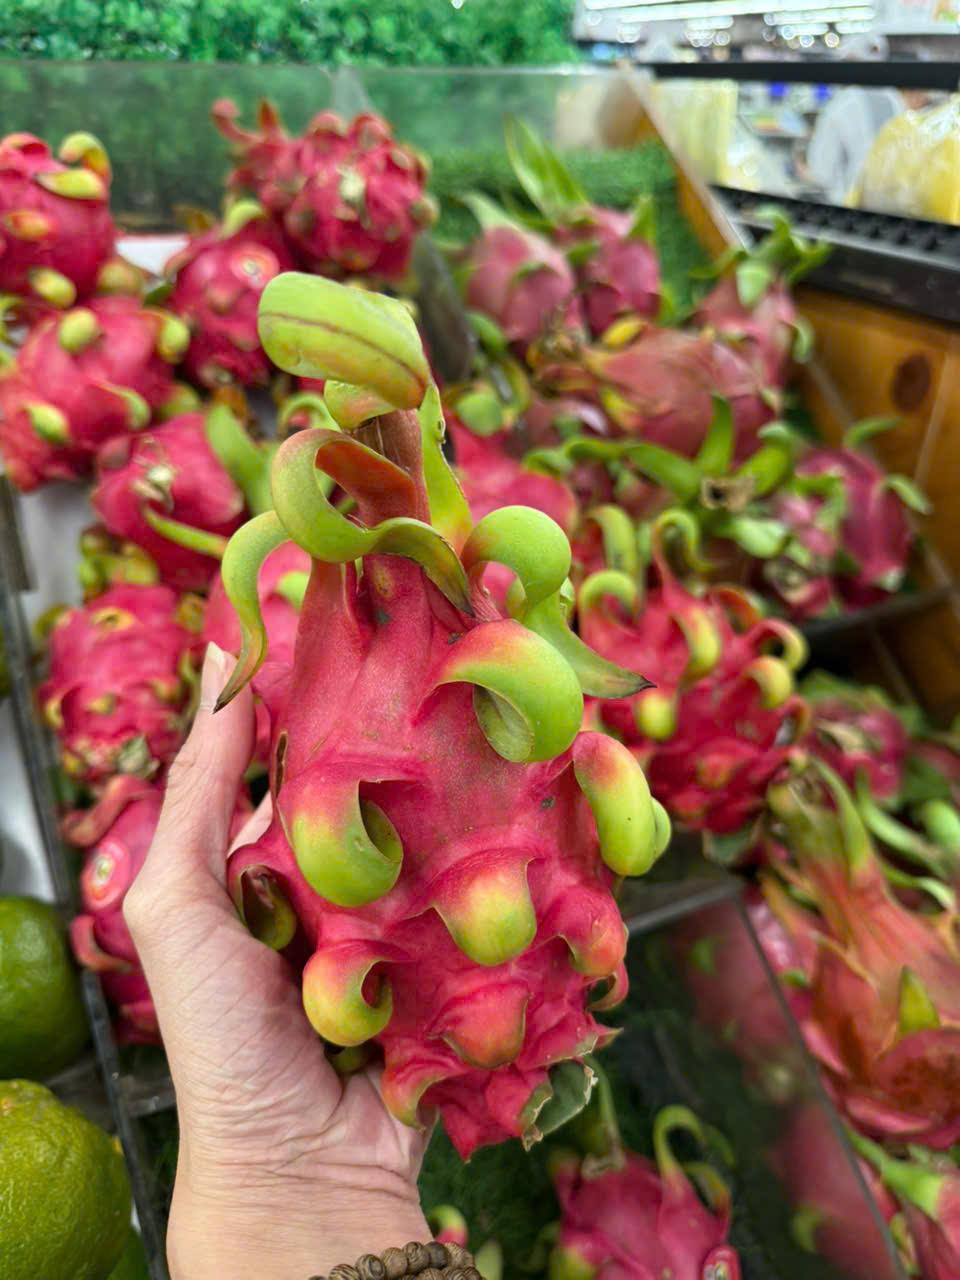dragon fruit: (235, 263, 662, 1154), (583, 520, 790, 834), (47, 528, 216, 784), (213, 96, 428, 274), (0, 298, 176, 496), (0, 106, 114, 330)
